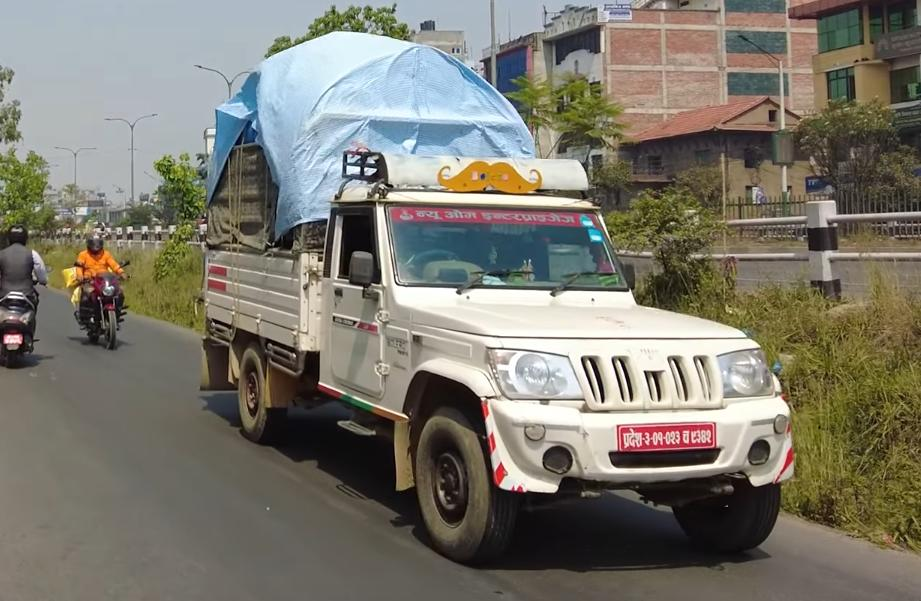bike: (59, 225, 146, 358)
scooter: (0, 209, 51, 373)
transport_vehicle: (218, 110, 802, 575)
